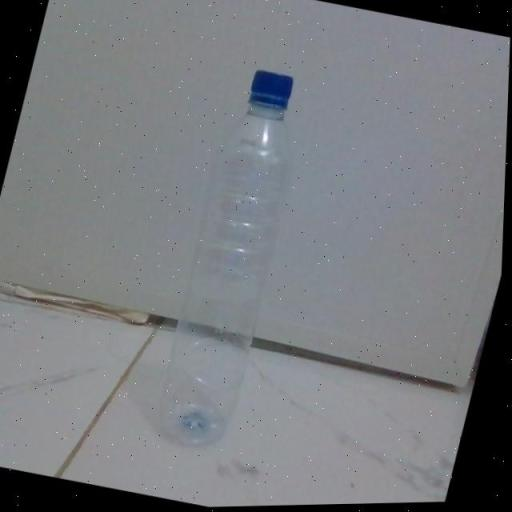plastic: (149, 65, 319, 451)
